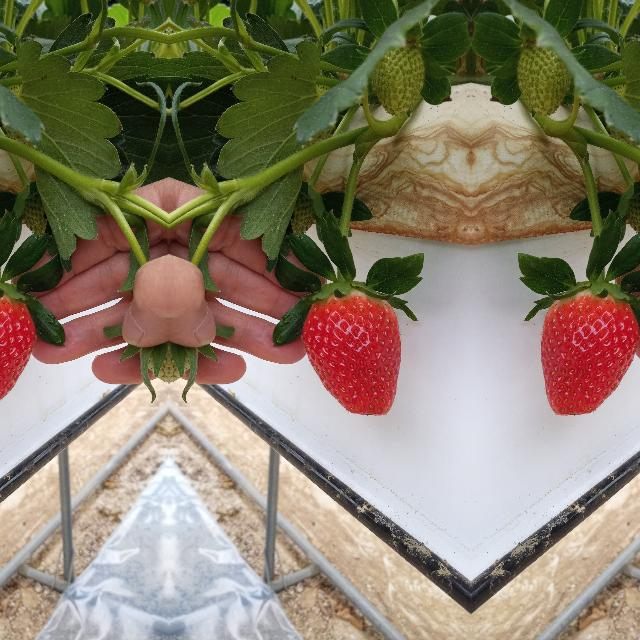Health_100: (300, 286, 402, 416), (539, 286, 640, 415), (0, 286, 35, 415)
